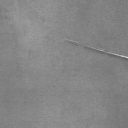finishing roll printing: (84, 44, 128, 60), (64, 38, 78, 46)
